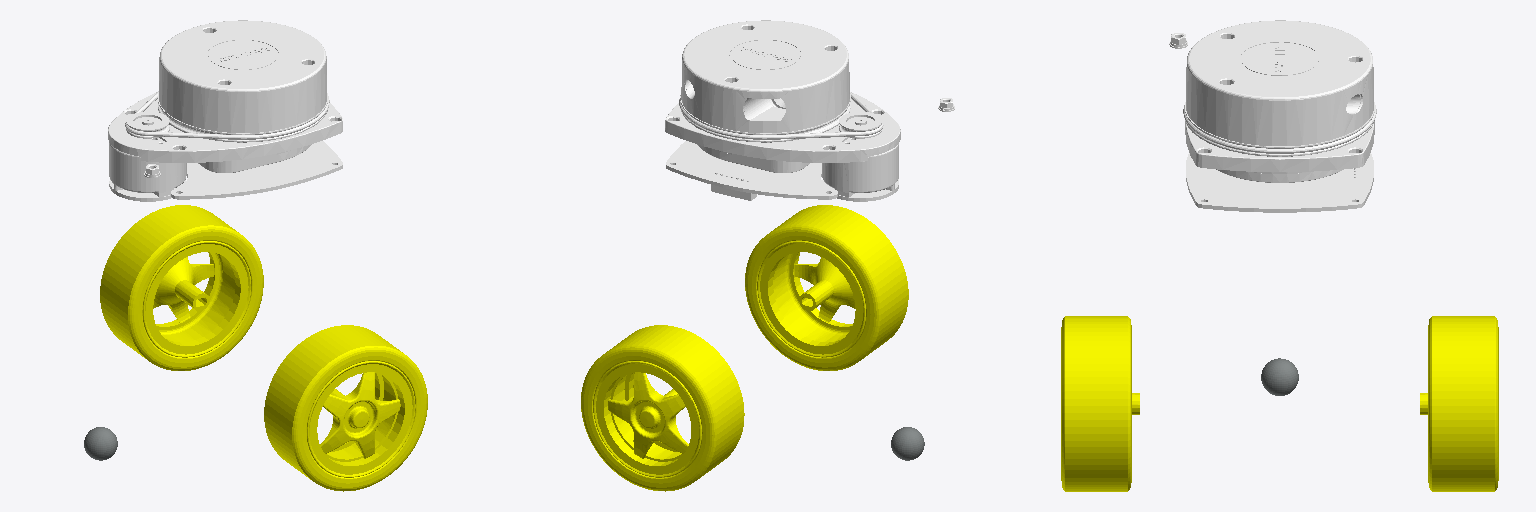
robot.urdf — ABOT_V1.SLDASM:
<?xml version="1.0" encoding="utf-8"?>
<!-- This URDF was automatically created by SolidWorks to URDF Exporter! Originally created by [author] ([email redacted]) 
     Commit Version: 1.6.0-4-g7f85cfe  Build Version: 1.6.7995.38578
     For more information, please see http://wiki.ros.org/sw_urdf_exporter -->
<robot
  name="ABOT_V1.SLDASM">
  <link
    name="abot_base">
    <inertial>
      <origin
        xyz="-0.0183443466313837 0.0047848319676371 0.0529320262811739"
        rpy="0 0 0" />
      <mass
        value="0.596661013055953" />
      <inertia
        ixx="0.000637503890610936"
        ixy="-1.71156032169163E-06"
        ixz="-1.10441019829435E-05"
        iyy="0.000654924075366587"
        iyz="-8.13604595521774E-09"
        izz="0.00115018629675728" />
    </inertial>
    <visual>
      <origin
        xyz="0 0 0"
        rpy="0 0 0" />
      <geometry>
        <mesh
          filename="package://ABOT_V1.SLDASM/meshes/abot_base.STL" />
      </geometry>
      <material
        name="">
        <color
          rgba="0.752941176470588 0.752941176470588 0.752941176470588 1" />
      </material>
    </visual>
    <collision>
      <origin
        xyz="0 0 0"
        rpy="0 0 0" />
      <geometry>
        <mesh
          filename="package://ABOT_V1.SLDASM/meshes/abot_base.STL" />
      </geometry>
    </collision>
  </link>
  <link
    name="abot_left_wheel">
    <inertial>
      <origin
        xyz="-3.282E-11 0.00056576 -9.8272E-11"
        rpy="0 0 0" />
      <mass
        value="0.050464" />
      <inertia
        ixx="2.0701E-05"
        ixy="-3.837E-15"
        ixz="1.6309E-14"
        iyy="3.5827E-05"
        iyz="1.8547E-15"
        izz="2.0701E-05" />
    </inertial>
    <visual>
      <origin
        xyz="0 0 0"
        rpy="0 0 0" />
      <geometry>
        <mesh
          filename="package://ABOT_V1.SLDASM/meshes/abot_left_wheel.STL" />
      </geometry>
      <material
        name="">
        <color
          rgba="1 1 0 1" />
      </material>
    </visual>
    <collision>
      <origin
        xyz="0 0 0"
        rpy="0 0 0" />
      <geometry>
        <mesh
          filename="package://ABOT_V1.SLDASM/meshes/abot_left_wheel.STL" />
      </geometry>
    </collision>
  </link>
  <joint
    name="left_wheel_to_base"
    type="continuous">
    <origin
      xyz="0 0.068 0.0145"
      rpy="0 0 0" />
    <parent
      link="abot_base" />
    <child
      link="abot_left_wheel" />
    <axis
      xyz="0 1 0" />
  </joint>
  <link
    name="abot_right_wheel">
    <inertial>
      <origin
        xyz="-3.282E-11 -0.00056576 9.8272E-11"
        rpy="0 0 0" />
      <mass
        value="0.050464" />
      <inertia
        ixx="2.0701E-05"
        ixy="3.837E-15"
        ixz="-1.6309E-14"
        iyy="3.5827E-05"
        iyz="1.8547E-15"
        izz="2.0701E-05" />
    </inertial>
    <visual>
      <origin
        xyz="0 0 0"
        rpy="0 0 0" />
      <geometry>
        <mesh
          filename="package://ABOT_V1.SLDASM/meshes/abot_right_wheel.STL" />
      </geometry>
      <material
        name="">
        <color
          rgba="1 1 0 1" />
      </material>
    </visual>
    <collision>
      <origin
        xyz="0 0 0"
        rpy="0 0 0" />
      <geometry>
        <mesh
          filename="package://ABOT_V1.SLDASM/meshes/abot_right_wheel.STL" />
      </geometry>
    </collision>
  </link>
  <joint
    name="right_wheel_to_base"
    type="continuous">
    <origin
      xyz="0 -0.068 0.0145"
      rpy="0 0 0" />
    <parent
      link="abot_base" />
    <child
      link="abot_right_wheel" />
    <axis
      xyz="0 1 0" />
  </joint>
  <link
    name="abot_caster_wheel">
    <inertial>
      <origin
        xyz="0 1.6073E-19 0"
        rpy="0 0 0" />
      <mass
        value="0.011207" />
      <inertia
        ixx="2.1965E-07"
        ixy="-1.5533E-55"
        ixz="-1.9776E-56"
        iyy="2.1965E-07"
        iyz="-2.2674E-40"
        izz="2.1965E-07" />
    </inertial>
    <visual>
      <origin
        xyz="0 0 0"
        rpy="0 0 0" />
      <geometry>
        <mesh
          filename="package://ABOT_V1.SLDASM/meshes/abot_caster_wheel.STL" />
      </geometry>
      <material
        name="">
        <color
          rgba="0.52941 0.54902 0.54902 1" />
      </material>
    </visual>
    <collision>
      <origin
        xyz="0 0 0"
        rpy="0 0 0" />
      <geometry>
        <mesh
          filename="package://ABOT_V1.SLDASM/meshes/abot_caster_wheel.STL" />
      </geometry>
    </collision>
  </link>
  <joint
    name="caster_wheel_to_base"
    type="fixed">
    <origin
      xyz="-0.078 0 -0.011"
      rpy="0 0 0" />
    <parent
      link="abot_base" />
    <child
      link="abot_caster_wheel" />
    <axis
      xyz="0 0 0" />
  </joint>
  <link
    name="abot_lidar">
    <inertial>
      <origin
        xyz="0 0 0"
        rpy="0 0 0" />
      <mass
        value="0" />
      <inertia
        ixx="0"
        ixy="0"
        ixz="0"
        iyy="0"
        iyz="0"
        izz="0" />
    </inertial>
    <visual>
      <origin
        xyz="0 0 0"
        rpy="0 0 0" />
      <geometry>
        <mesh
          filename="package://ABOT_V1.SLDASM/meshes/abot_lidar.STL" />
      </geometry>
      <material
        name="">
        <color
          rgba="1 1 1 1" />
      </material>
    </visual>
    <collision>
      <origin
        xyz="0 0 0"
        rpy="0 0 0" />
      <geometry>
        <mesh
          filename="package://ABOT_V1.SLDASM/meshes/abot_lidar.STL" />
      </geometry>
    </collision>
  </link>
  <joint
    name="lidar_to_base"
    type="fixed">
    <origin
      xyz="-0.0100000000000004 0 0.1419"
      rpy="0 0 3.14159265358978" />
    <parent
      link="abot_base" />
    <child
      link="abot_lidar" />
    <axis
      xyz="0 0 0" />
  </joint>
</robot>

--- Render facts (derived) ---
3 views of the same robot in one strip: view 1: azimuth 30°, elevation 25°; view 2: azimuth 150°, elevation 25°; view 3: azimuth 270°, elevation 25° (orthographic).
Robot: ABOT_V1.SLDASM — 5 links, 4 joints (2 continuous, 2 fixed); root link abot_base; default pose: every joint at zero.
Visible links, largest first — view 1: abot_lidar, abot_left_wheel, abot_right_wheel, abot_caster_wheel; view 2: abot_lidar, abot_left_wheel, abot_right_wheel, abot_caster_wheel; view 3: abot_lidar, abot_left_wheel, abot_right_wheel, abot_caster_wheel.
Link boxes in pixels (x1,y1,x2,y2): abot_lidar: (108,20,342,201); abot_left_wheel: (100,205,263,370); abot_right_wheel: (264,325,427,491); abot_caster_wheel: (84,427,117,460); abot_lidar: (665,20,954,201); abot_left_wheel: (581,325,744,491); abot_right_wheel: (745,205,908,370); abot_caster_wheel: (891,427,924,460); abot_lidar: (1169,20,1376,212); abot_left_wheel: (1420,316,1498,491); abot_right_wheel: (1061,316,1139,491); abot_caster_wheel: (1261,358,1298,395).
Size in the robot's own frame: 0.1175 by 0.162 by 0.1689 metres.
4 mesh visuals loaded from 5 distinct referenced files (4 binary STL); not drawn: 1 (reference not matched to a file when rendering).